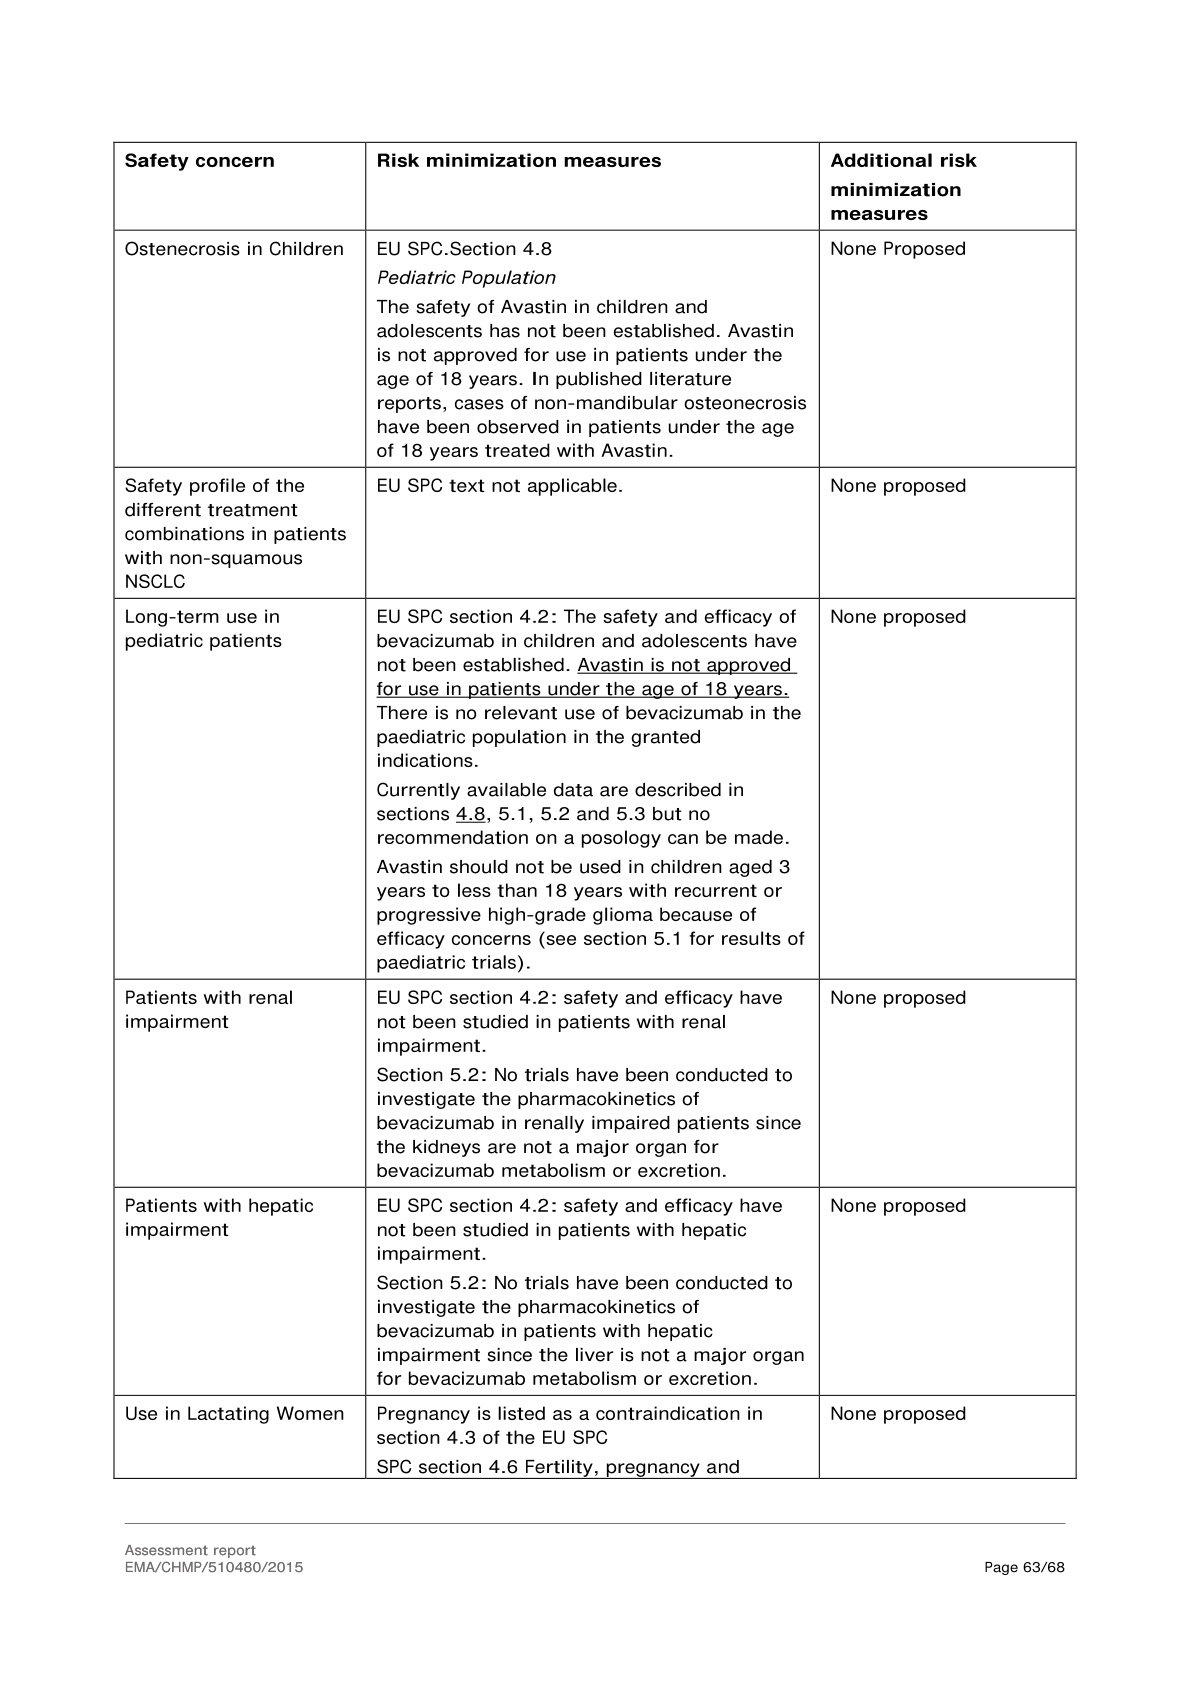full_lined: (113, 140, 1077, 1479)
